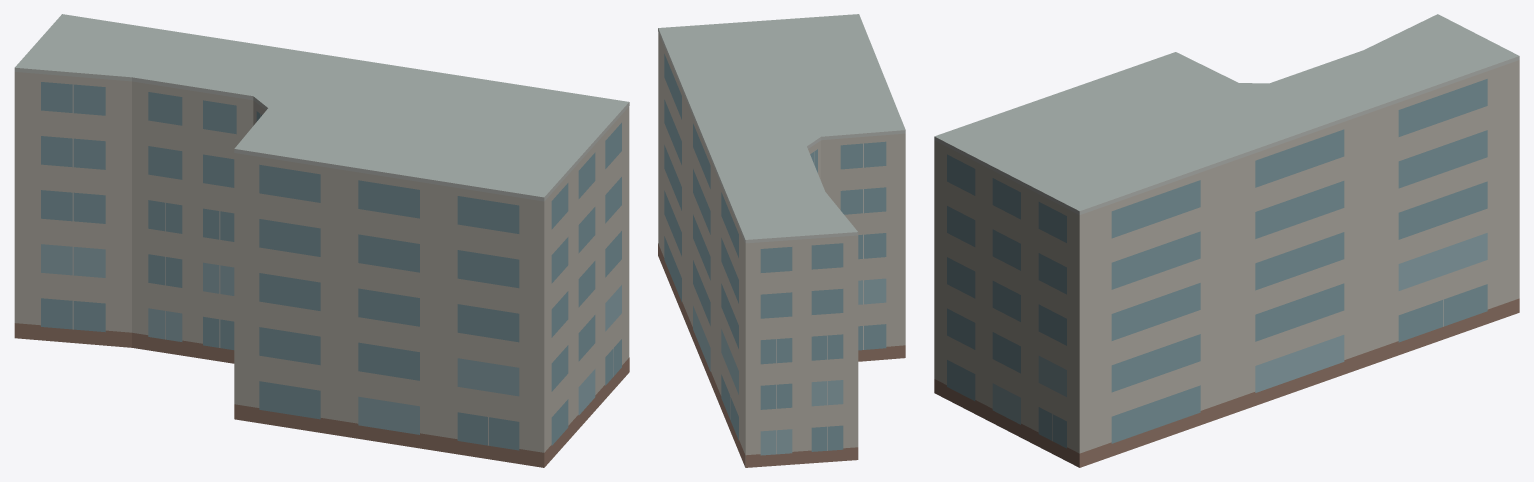
File: survey-upis-32730402.glb
3 renders of one model, left to right at view 1: azimuth 30°, elevation 25°; view 2: azimuth 150°, elevation 25°; view 3: azimuth 270°, elevation 25°, orthographic. The views are drawn at different scales.
Visible parts, largest first — view 1: survey-upis-32730402.tmp; view 2: survey-upis-32730402.tmp; view 3: survey-upis-32730402.tmp.
Part boxes in pixels (x1,y1,x2,y2): survey-upis-32730402.tmp: (14, 14, 629, 467); survey-upis-32730402.tmp: (658, 14, 905, 467); survey-upis-32730402.tmp: (934, 14, 1519, 467).
Bounding box in the file's own units: 26.39 × 16 × 33.08.
